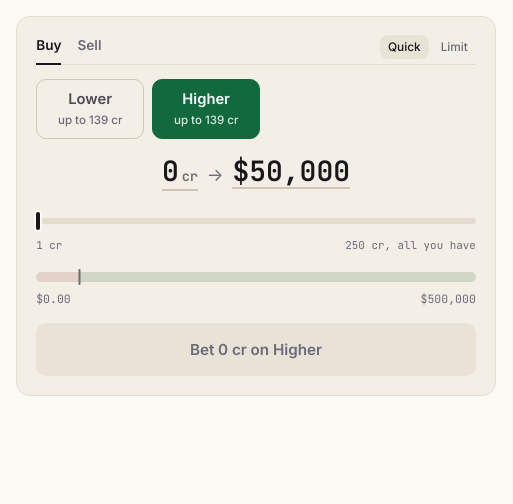
Test: selling at a price › a sell limit restates the whole instruction
Click the button "Sell" at (90, 50), box [78,35,102,65]
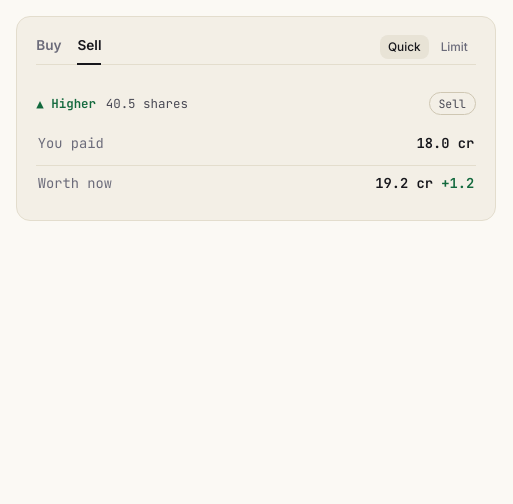
Click the button "Limit" at (454, 47), box [433,35,476,59]
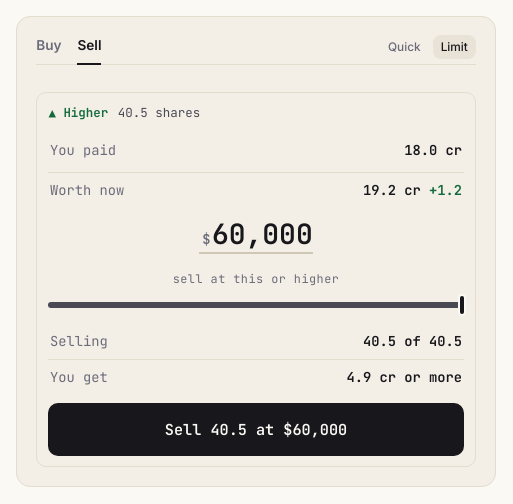
Replace the text in the field named "Limit price in $" with "80000" at (262, 234), box [212,216,313,252]
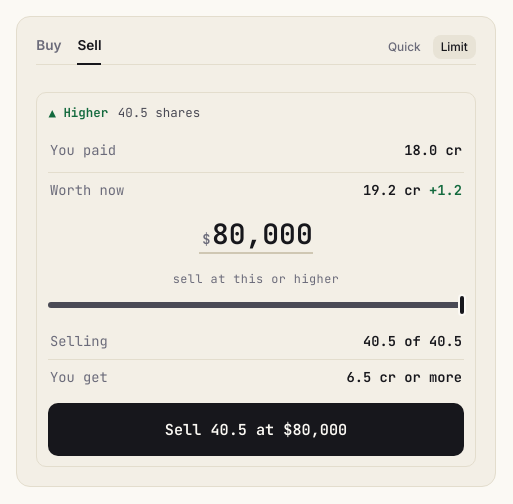
expect the text "sell at this or higher" is shown: met, box [173,271,339,287]
expect the button "Sell 40.5 at $80,000" is shown: met, box [48,403,464,456]
